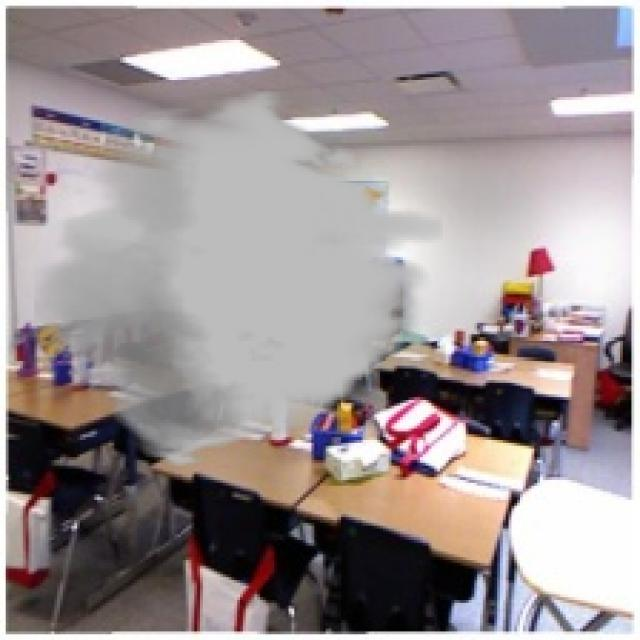smoke: (34, 89, 443, 468)
